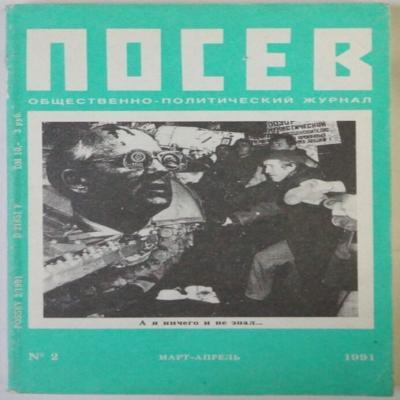printed_products: (1, 0, 400, 400)
